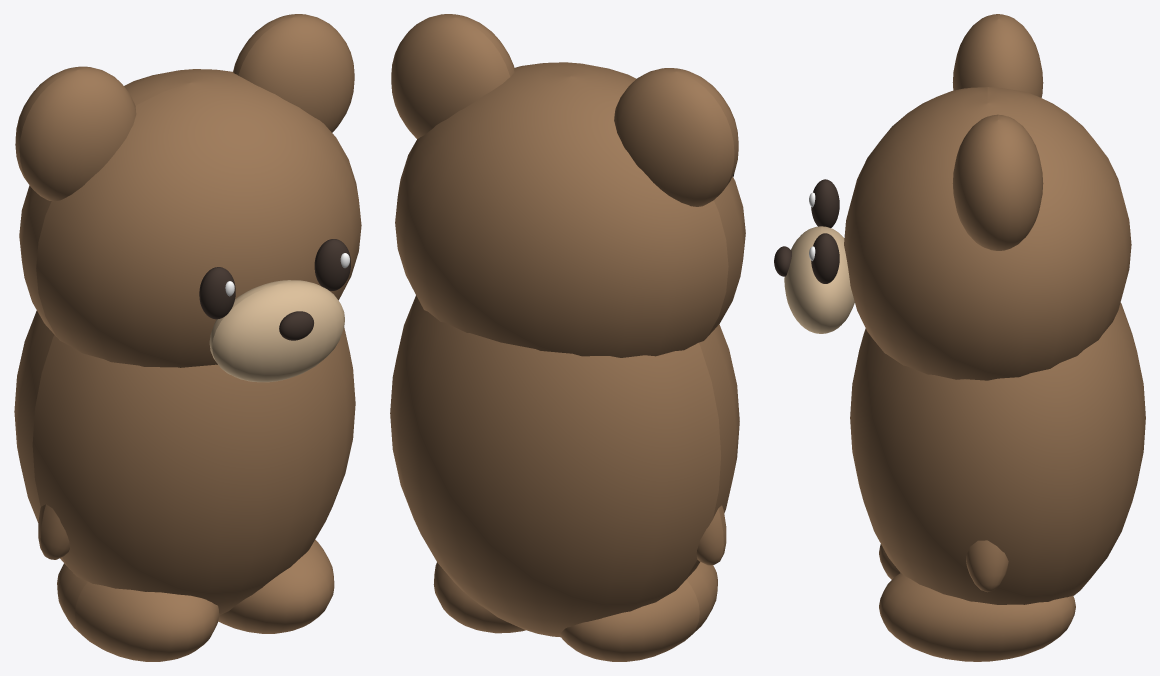
The picture shows the model from 3 angles, left to right: view 1: azimuth 30°, elevation 25°; view 2: azimuth 150°, elevation 25°; view 3: azimuth 270°, elevation 25°; orthographic projection. The views are drawn at different scales.
Size of the model in its own units: 1.78 by 2.99 by 1.81.
